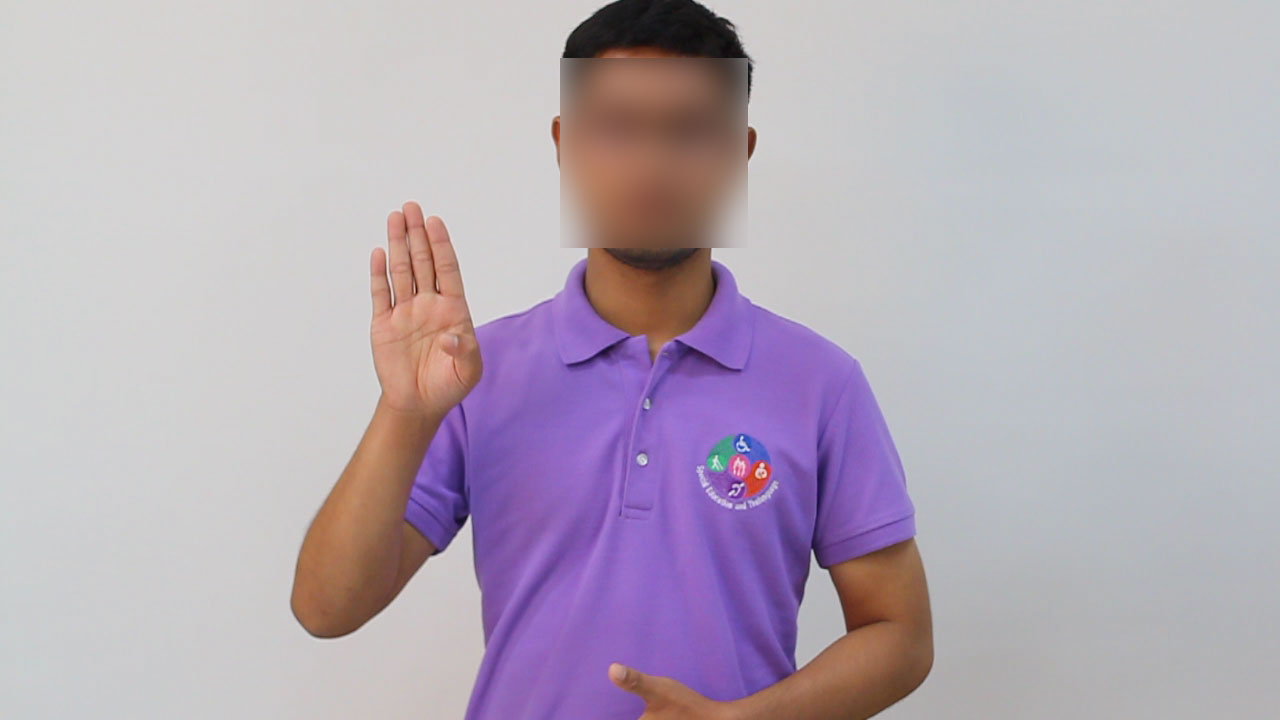bor: (355, 184, 494, 444)
